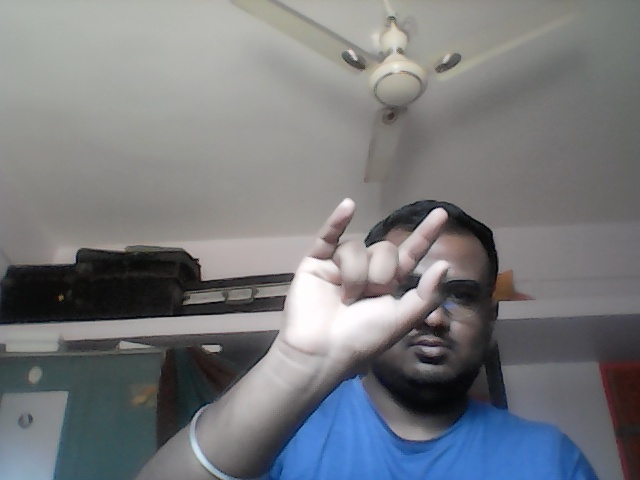I Love You: (279, 195, 451, 374)
